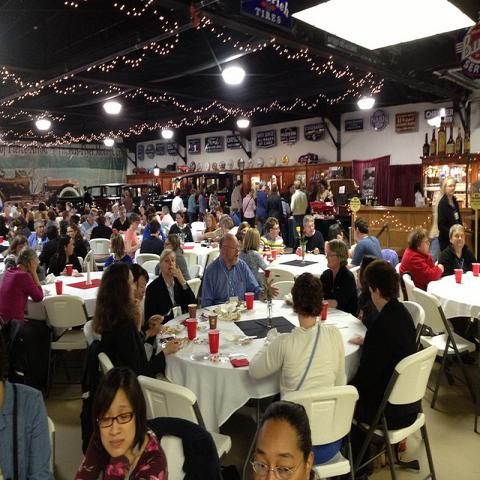car: (297, 150, 318, 166)
